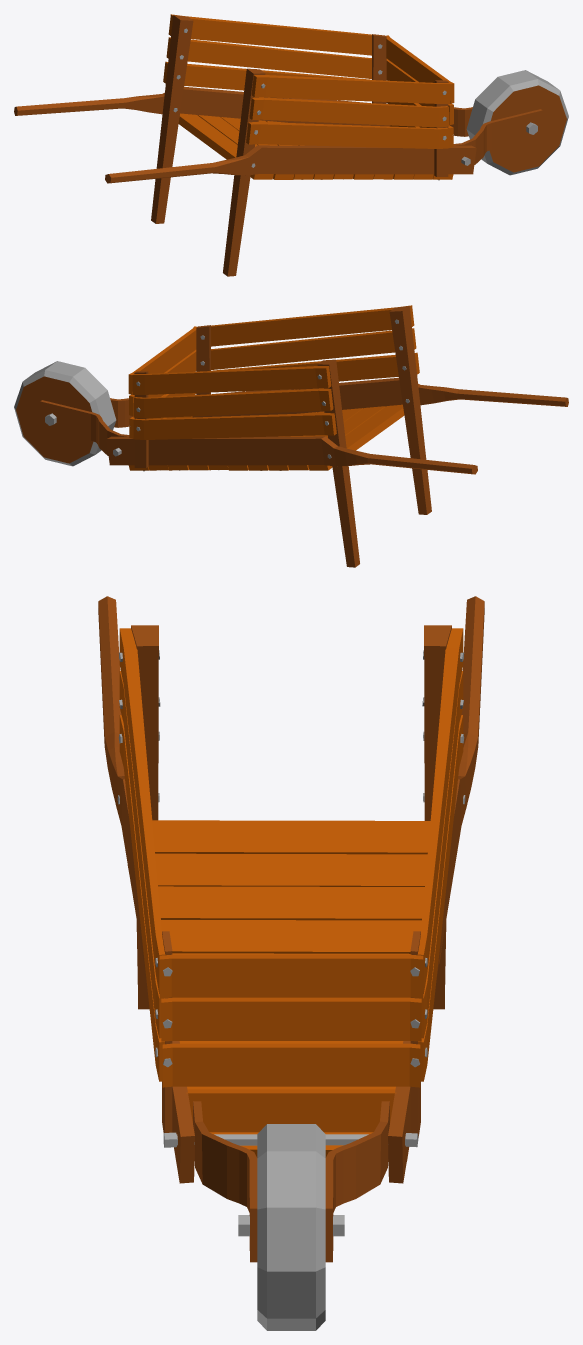
File: Wheelbarrow.fbx
The picture shows the model from 3 angles, top to bottom: view 1: azimuth 30°, elevation 25°; view 2: azimuth 150°, elevation 25°; view 3: azimuth 270°, elevation 25°; orthographic projection. The views are drawn at different scales.
Parts seen in each view (by area): view 1: Wheelbarrow; view 2: Wheelbarrow; view 3: Wheelbarrow.
Boxes of the visible parts, x1,y1,x2,y2 form: Wheelbarrow: (14,14,568,276); Wheelbarrow: (14,305,568,567); Wheelbarrow: (98,596,484,1330).
Size of the model in its own units: 786 by 299 by 262.
